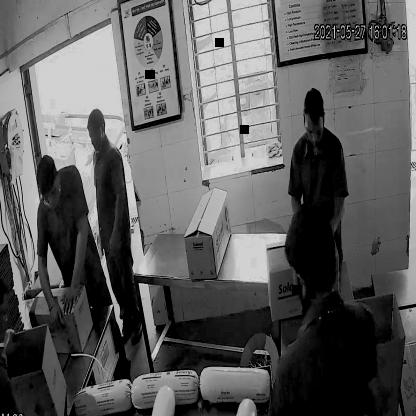no_goggles: (302, 120, 327, 141)
